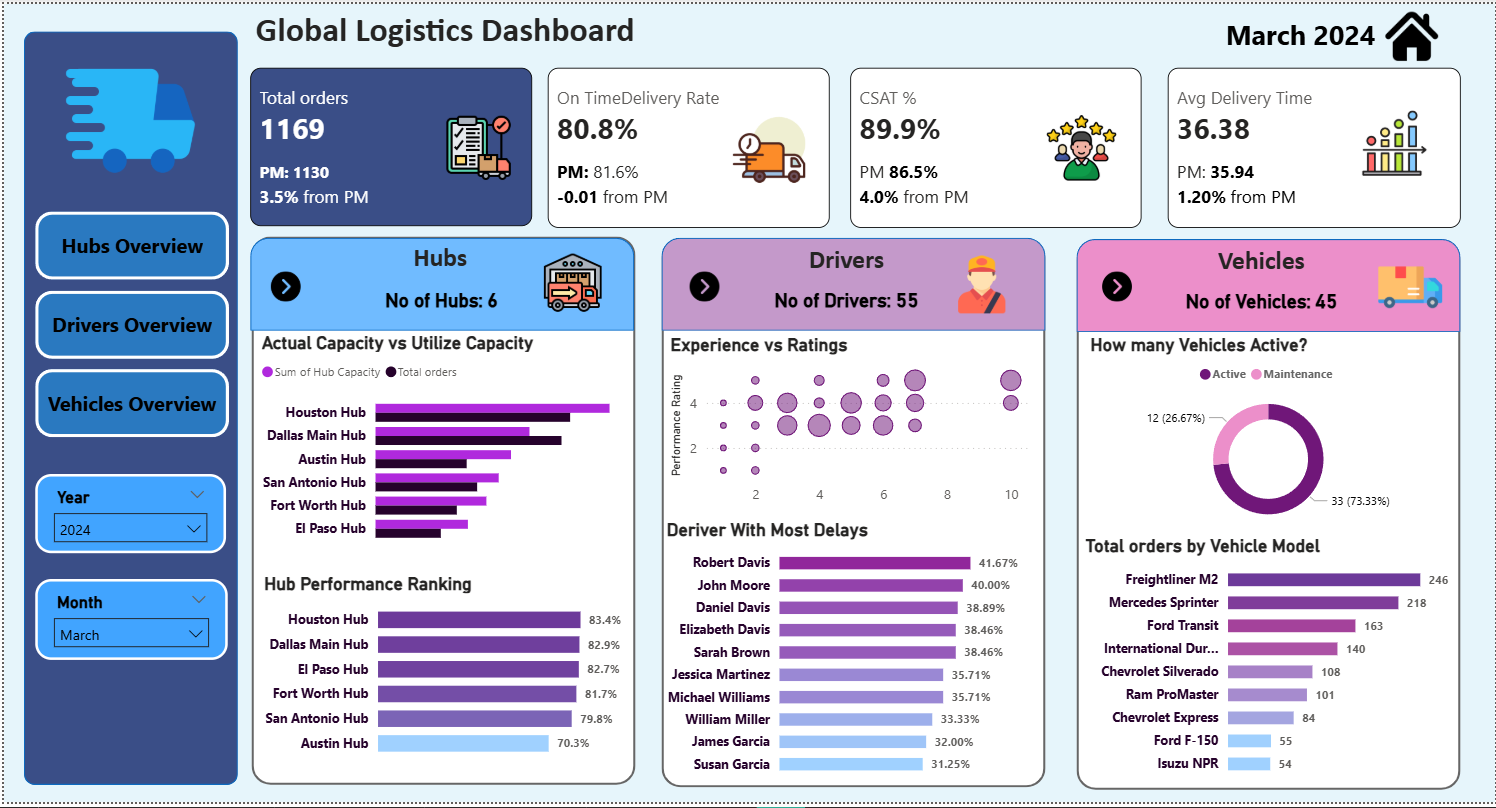

What the dashboard file says about the page in this screenshot:
{"tool":"powerbi","page":{"name":"Global Logistics Dashboard","canvas":[1400,750],"ordinal":0},"visuals":[{"type":"shape","box":[19.1,26,200.8,707.7],"z":0},{"type":"textbox","box":[231.1,0,507.3,60],"z":1000},{"type":"cardVisual","fields":{"Data":["Orders.Total orders"]},"box":[230.9,60.1,265,148.9],"z":2000},{"type":"slicer","fields":{"Values":["Date Table.Year"]},"box":[29,442,179.1,74.2],"z":3000},{"type":"slicer","fields":{"Values":["Date Table.Month"]},"box":[29,540.4,180.7,75.8],"z":4000},{"type":"cardVisual","fields":{"Data":["Orders.CSAT %"]},"box":[795.1,60.1,273.2,150.3],"z":5000},{"type":"cardVisual","fields":{"Data":["Orders.Avg Delivery Time"]},"box":[1092.9,59.8,275,150.7],"z":6000},{"type":"cardVisual","fields":{"Data":["Orders.On TimeDelivery Rate"]},"box":[510.9,60.1,265,150.3],"z":7000},{"type":"shape","box":[232.2,218.6,360.7,515],"z":8000},{"type":"shape","box":[230.9,219.9,360.7,87.4],"z":9000},{"type":"textbox","box":[322.4,218.6,173.5,43.7],"z":10000},{"type":"card","fields":{"Values":["Hubs.No of Hubs"]},"box":[288.3,263.7,244.5,28.7],"z":11000},{"type":"shape","box":[617.6,221.3,360.7,515],"z":12000},{"type":"shape","box":[617.6,219.9,360.7,87.4],"z":13000},{"type":"card","fields":{"Values":["Drivers.No Of Drivers"]},"box":[668.7,263.7,244.5,28.7],"z":14000},{"type":"textbox","box":[704.2,219.9,173.5,43.7],"z":15000},{"type":"shape","box":[1007.4,222.7,360.7,515],"z":16000},{"type":"shape","box":[1007.4,221.3,360.7,87.4],"z":17000},{"type":"card","fields":{"Values":["Vehicles.No Of Vehicles"]},"box":[1058.5,265,244.5,28.7],"z":18000},{"type":"textbox","box":[1094,221.3,173.5,43.7],"z":19000},{"type":"clusteredBarChart","title":"Actual Capacity vs Utilize Capacity","fields":{"Category":["Hubs.HubName"],"Y":["Sum(Hubs.Hub Capacity)","Orders.Total orders"]},"box":[237.7,307.4,348.4,207.7],"z":20000},{"type":"barChart","title":"Hub Performance Ranking","fields":{"Category":["Hubs.HubName"],"Y":["Orders.On TimeDelivery Rate"]},"box":[239.1,534.2,345.6,183.1],"z":21000},{"type":"scatterChart","title":"Experience  vs Ratings","fields":{"X":["Drivers.Experience Years"],"Y":["Drivers.Performance Rating"],"Size":["Sum(Drivers.Experience Years)1"]},"box":[621.3,309.9,351.8,168.9],"z":22000},{"type":"donutChart","title":"How many Vehicles Active?","fields":{"Category":["Vehicles.Vehicle Status"],"Y":["CountNonNull(Vehicles.Vehicle ID)"]},"box":[1015,310.1,344.3,188.5],"z":23000},{"type":"barChart","fields":{"Category":["Vehicles.Vehicle Model"],"Y":["Orders.Total orders"]},"box":[1010.9,498.6,352.5,235],"z":24000},{"type":"barChart","title":"Deriver With Most Delays","fields":{"Category":["Drivers.DriverName"],"Y":["Orders.Delay Delivery Rate"]},"box":[617.5,483.6,345.6,250],"z":25000},{"type":"image","box":[498.6,229.5,69.7,65.6],"z":26000},{"type":"image","box":[974,95.6,75.1,79.2],"z":27000},{"type":"image","box":[886.6,226.8,64.2,73.8],"z":28000},{"type":"image","box":[1284.2,230.9,72.4,69.7],"z":29000},{"type":"image","box":[409.8,95.6,72.4,79.2],"z":30000},{"type":"image","box":[680.3,95.6,77.9,84.7],"z":31000},{"type":"image","box":[1267.8,95.6,76.5,71],"z":32000},{"type":"image","box":[20.5,35.5,198.1,144.8],"z":33000},{"type":"card","fields":{"Values":["Orders.YearMonth Title"]},"box":[1068.3,0,299.2,60.1],"z":34000},{"type":"image","box":[634.9,246.2,45.4,37.6],"z":35000},{"type":"image","box":[242.3,246.2,45.4,37.6],"z":36000},{"type":"image","box":[1293.2,0,59.6,60.9],"z":37000},{"type":"image","box":[1022.4,246.2,45.4,37.6],"z":38000},{"type":"pageNavigator","box":[29,195.2,182.3,213],"z":39000}]}

Visuals, with their boxes in screenshot pixels (x1, y1, x2, y2), scaled from the page's 1400x750 canvas onto the 1496x808 screenshot:
shape: {"x1": 20, "y1": 28, "x2": 235, "y2": 790}
textbox: {"x1": 247, "y1": 0, "x2": 789, "y2": 65}
cardVisual - Orders.Total orders: {"x1": 247, "y1": 65, "x2": 530, "y2": 225}
slicer - Date Table.Year: {"x1": 31, "y1": 476, "x2": 222, "y2": 556}
slicer - Date Table.Month: {"x1": 31, "y1": 582, "x2": 224, "y2": 664}
cardVisual - Orders.CSAT %: {"x1": 850, "y1": 65, "x2": 1142, "y2": 227}
cardVisual - Orders.Avg Delivery Time: {"x1": 1168, "y1": 64, "x2": 1462, "y2": 227}
cardVisual - Orders.On TimeDelivery Rate: {"x1": 546, "y1": 65, "x2": 829, "y2": 227}
shape: {"x1": 248, "y1": 236, "x2": 634, "y2": 790}
shape: {"x1": 247, "y1": 237, "x2": 632, "y2": 331}
textbox: {"x1": 345, "y1": 236, "x2": 530, "y2": 283}
card - Hubs.No of Hubs: {"x1": 308, "y1": 284, "x2": 569, "y2": 315}
shape: {"x1": 660, "y1": 238, "x2": 1045, "y2": 793}
shape: {"x1": 660, "y1": 237, "x2": 1045, "y2": 331}
card - Drivers.No Of Drivers: {"x1": 715, "y1": 284, "x2": 976, "y2": 315}
textbox: {"x1": 752, "y1": 237, "x2": 938, "y2": 284}
shape: {"x1": 1076, "y1": 240, "x2": 1462, "y2": 795}
shape: {"x1": 1076, "y1": 238, "x2": 1462, "y2": 333}
card - Vehicles.No Of Vehicles: {"x1": 1131, "y1": 285, "x2": 1392, "y2": 316}
textbox: {"x1": 1169, "y1": 238, "x2": 1354, "y2": 285}
"Actual Capacity vs Utilize Capacity" clusteredBarChart: {"x1": 254, "y1": 331, "x2": 626, "y2": 555}
"Hub Performance Ranking" barChart: {"x1": 255, "y1": 576, "x2": 625, "y2": 773}
"Experience  vs Ratings" scatterChart: {"x1": 664, "y1": 334, "x2": 1040, "y2": 516}
"How many Vehicles Active?" donutChart: {"x1": 1085, "y1": 334, "x2": 1453, "y2": 537}
barChart - Vehicles.Vehicle Model x Orders.Total orders: {"x1": 1080, "y1": 537, "x2": 1457, "y2": 790}
"Deriver With Most Delays" barChart: {"x1": 660, "y1": 521, "x2": 1029, "y2": 790}
image: {"x1": 533, "y1": 247, "x2": 607, "y2": 318}
image: {"x1": 1041, "y1": 103, "x2": 1121, "y2": 188}
image: {"x1": 947, "y1": 244, "x2": 1016, "y2": 324}
image: {"x1": 1372, "y1": 249, "x2": 1450, "y2": 324}
image: {"x1": 438, "y1": 103, "x2": 515, "y2": 188}
image: {"x1": 727, "y1": 103, "x2": 810, "y2": 194}
image: {"x1": 1355, "y1": 103, "x2": 1436, "y2": 179}
image: {"x1": 22, "y1": 38, "x2": 234, "y2": 194}
card - Orders.YearMonth Title: {"x1": 1142, "y1": 0, "x2": 1461, "y2": 65}
image: {"x1": 678, "y1": 265, "x2": 727, "y2": 306}
image: {"x1": 259, "y1": 265, "x2": 307, "y2": 306}
image: {"x1": 1382, "y1": 0, "x2": 1446, "y2": 66}
image: {"x1": 1093, "y1": 265, "x2": 1141, "y2": 306}
pageNavigator: {"x1": 31, "y1": 210, "x2": 226, "y2": 440}
